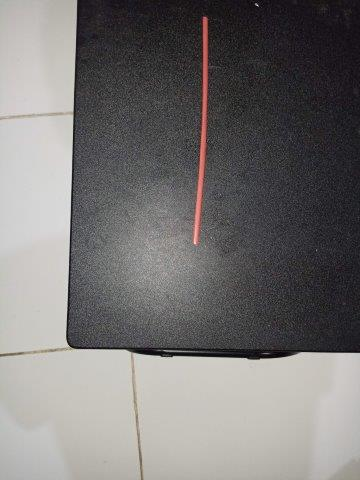sedotan: (194, 17, 208, 244)
